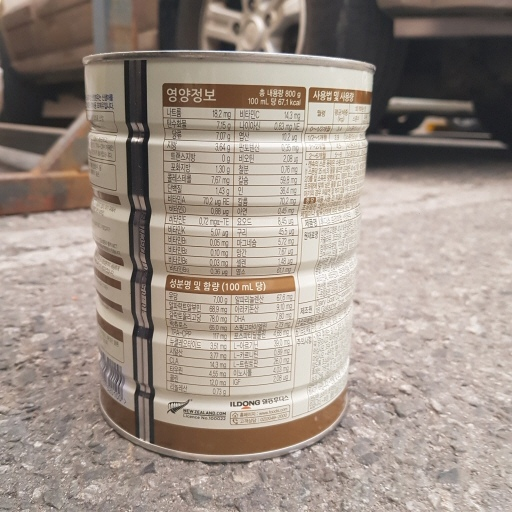Metal_1: (81, 50, 378, 459)
